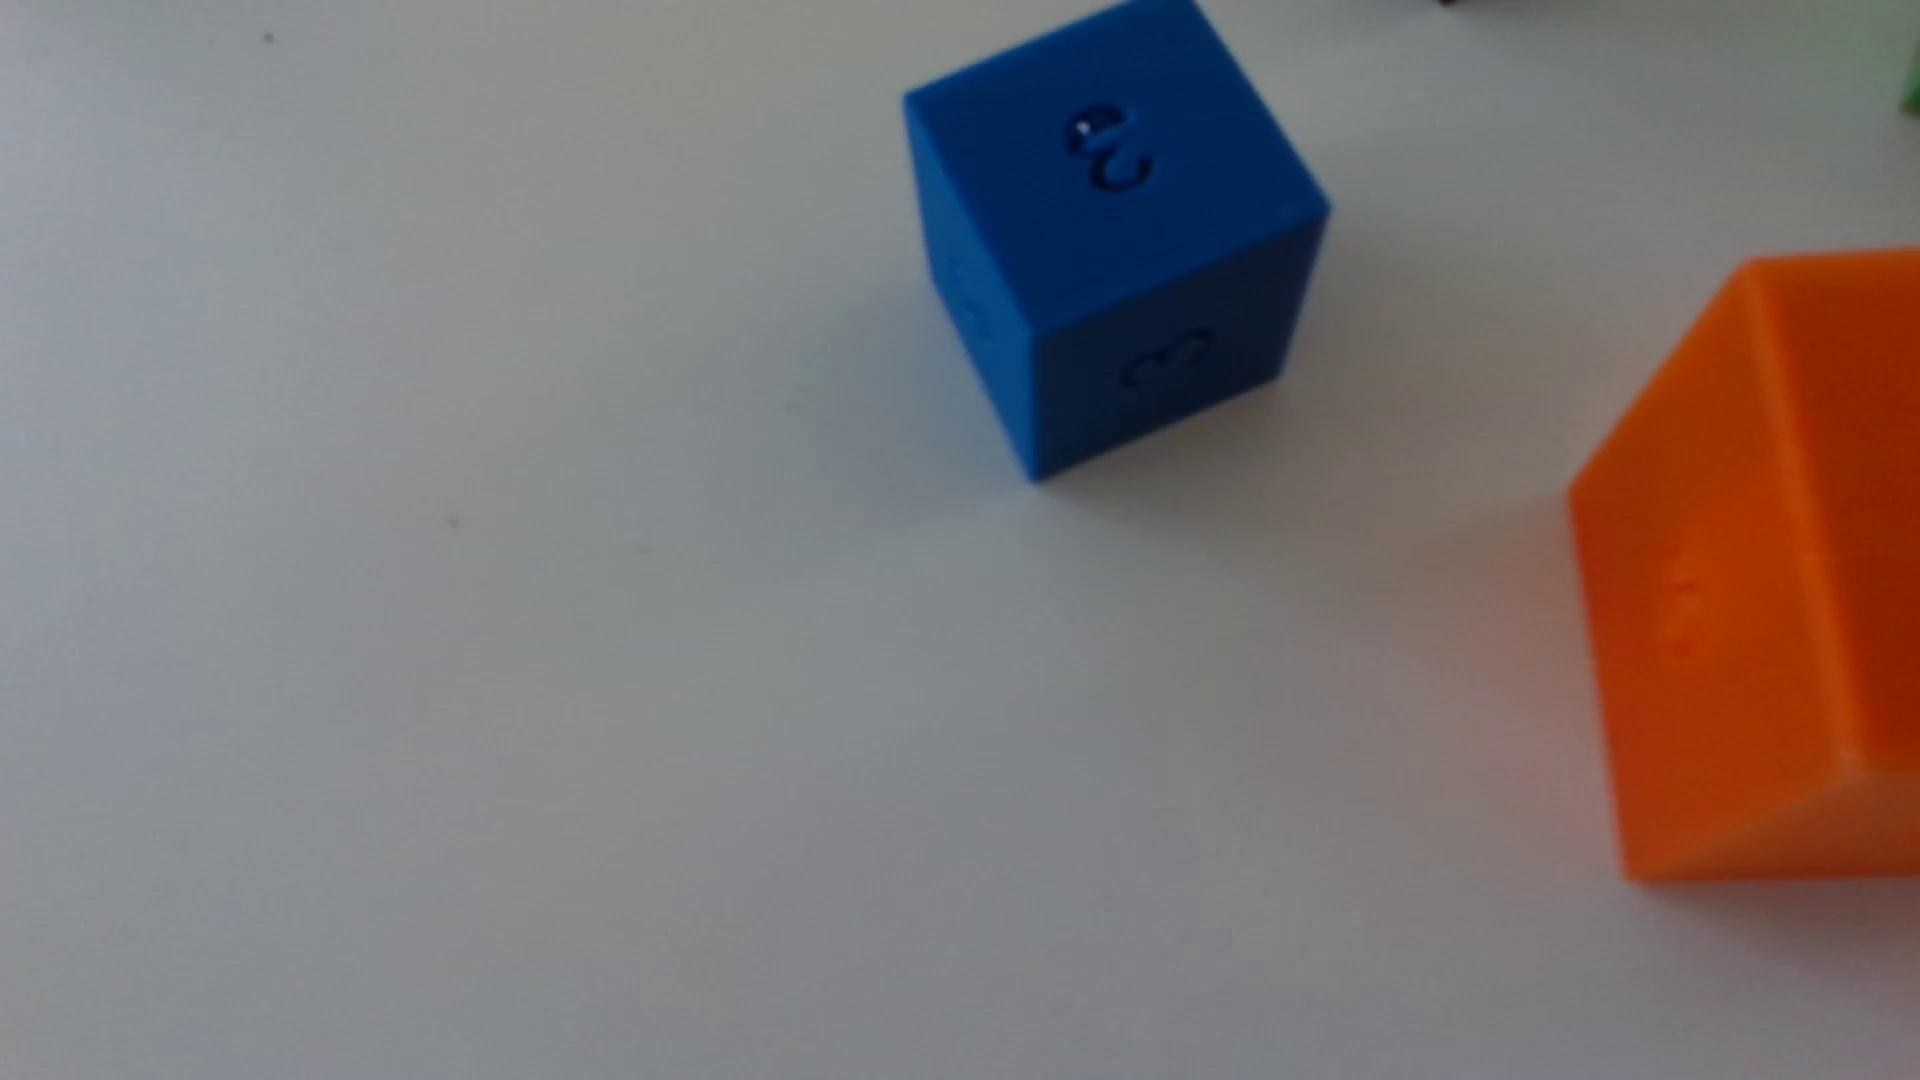black: (1436, 0, 1456, 7)
blue: (903, 0, 1331, 481)
green: (1900, 47, 1920, 117)
orange: (1568, 248, 1920, 885)
